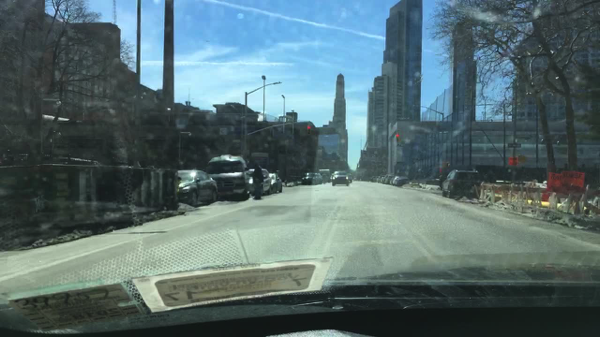bike: (507, 141, 522, 149)
car: (204, 153, 252, 203), (173, 168, 220, 206), (439, 168, 483, 200), (247, 167, 273, 198), (329, 169, 351, 188), (268, 171, 283, 194), (300, 171, 319, 186), (392, 175, 410, 186), (313, 172, 323, 184), (383, 174, 393, 185), (391, 175, 400, 187), (346, 172, 353, 183), (379, 175, 387, 184), (371, 175, 379, 183), (389, 176, 396, 184), (375, 175, 381, 184), (369, 175, 375, 183), (329, 174, 334, 183)
person: (251, 164, 270, 200), (246, 165, 266, 195)
traffic light: (305, 125, 312, 136), (395, 134, 400, 143)
truck: (317, 168, 330, 184)
